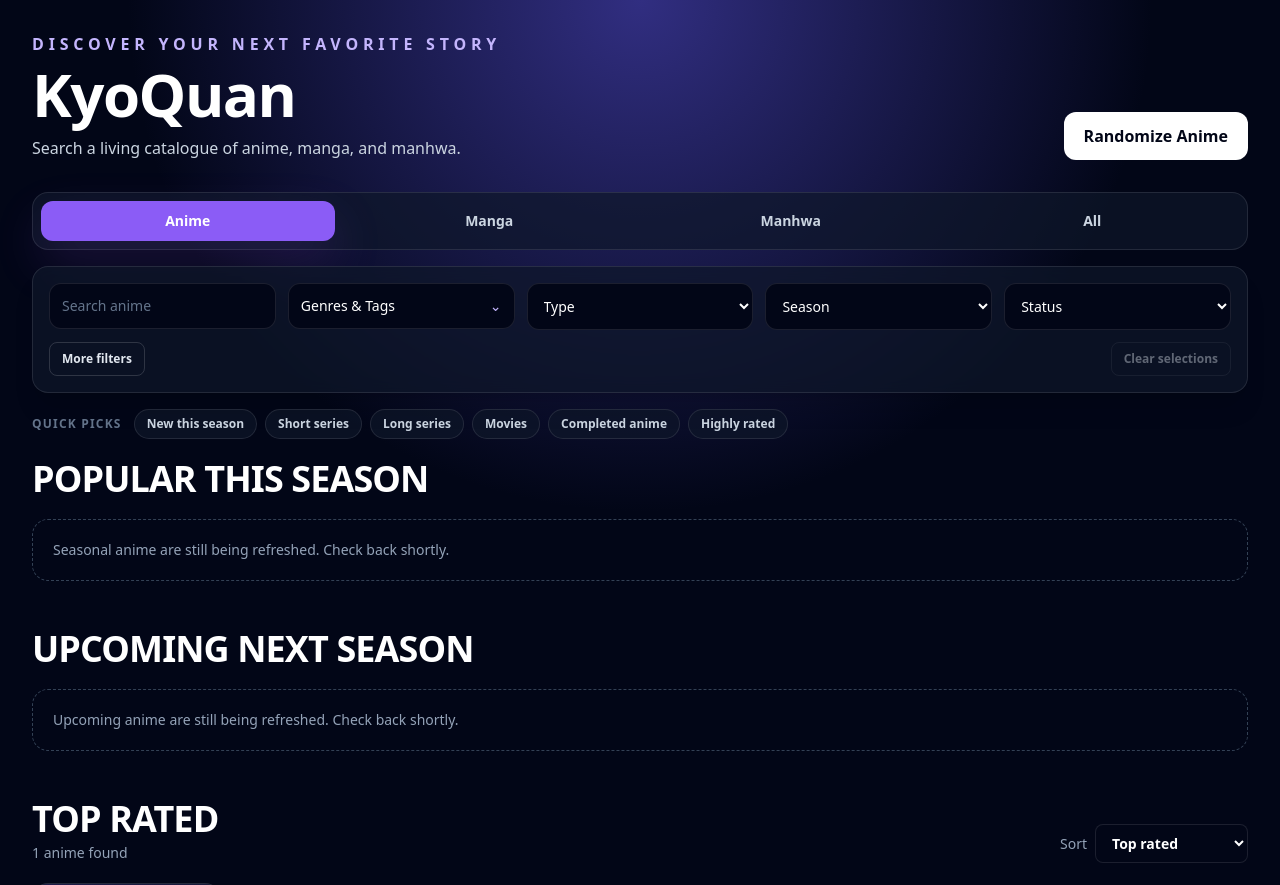
Test: catalogue filter integration › a failed refresh removes cards from the previous filter state
The width and height of the screenshot is (1280, 885).
Select "Summer" in the 2nd dropdown named "Season" at (879, 306), box [765,283,992,330]
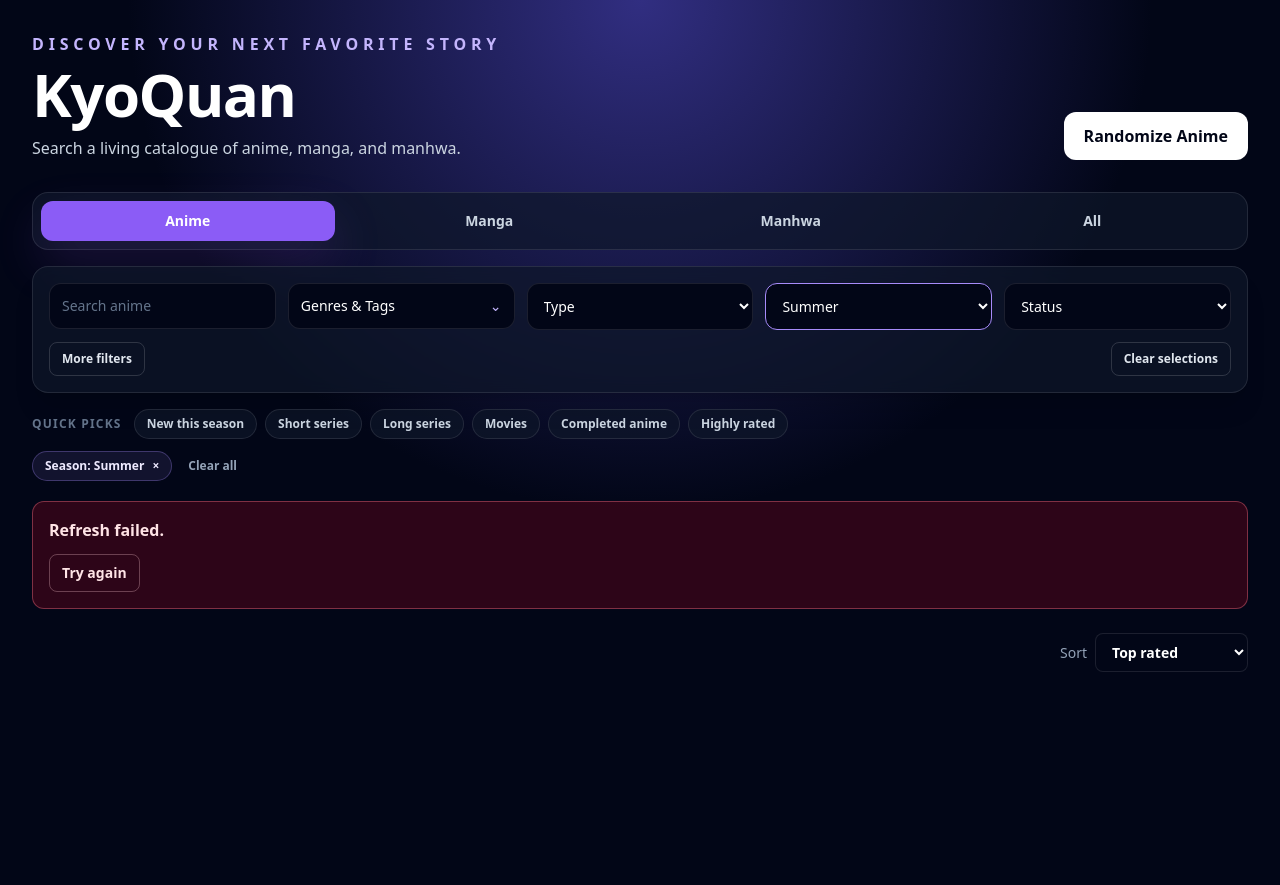
Now the text "Refresh failed." is shown, box [49,519,164,541]
